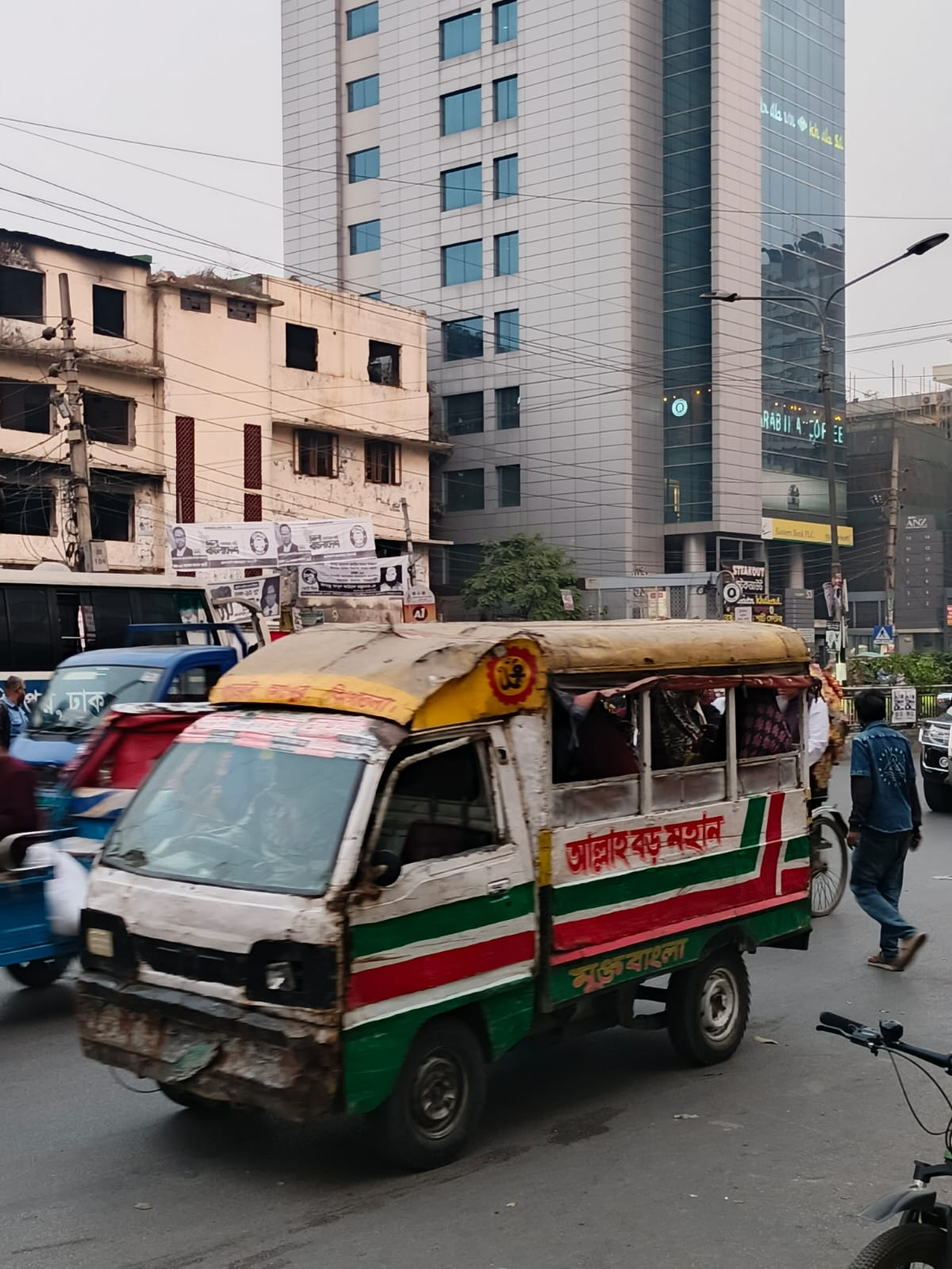Leguna: (95, 598, 836, 1149)
Pickup: (11, 627, 222, 762)
auto-ricksaw: (3, 691, 193, 957)
private car: (928, 667, 952, 885)
